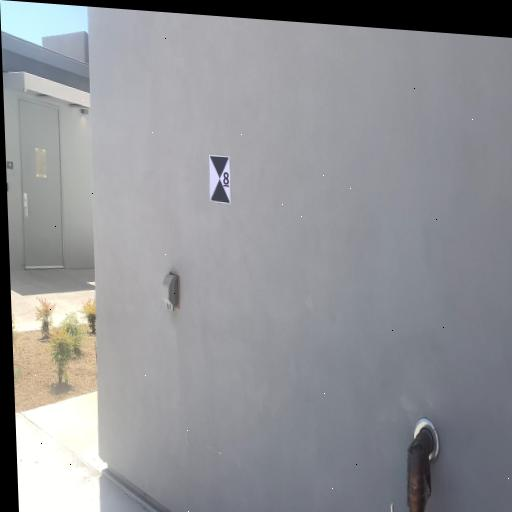target8: (209, 155, 232, 203)
